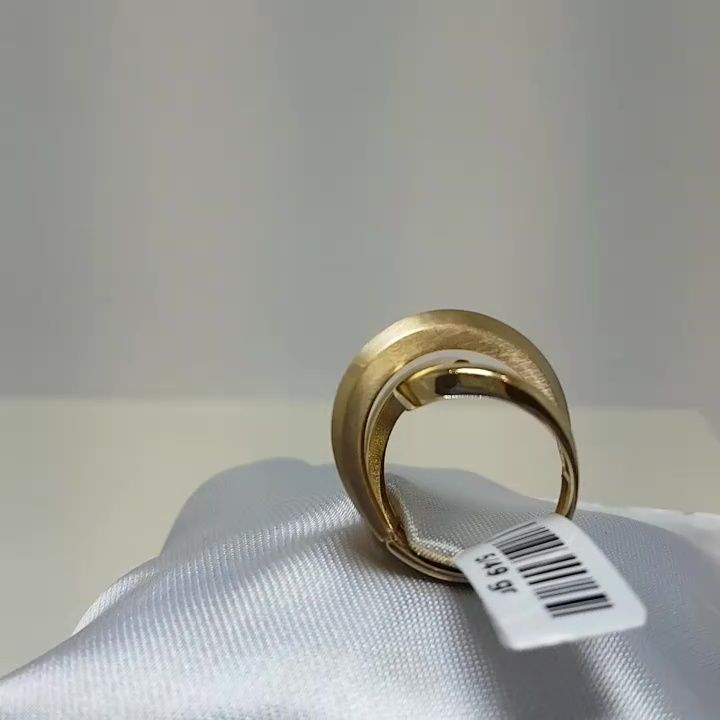Ring 3: (272, 275, 616, 614)
